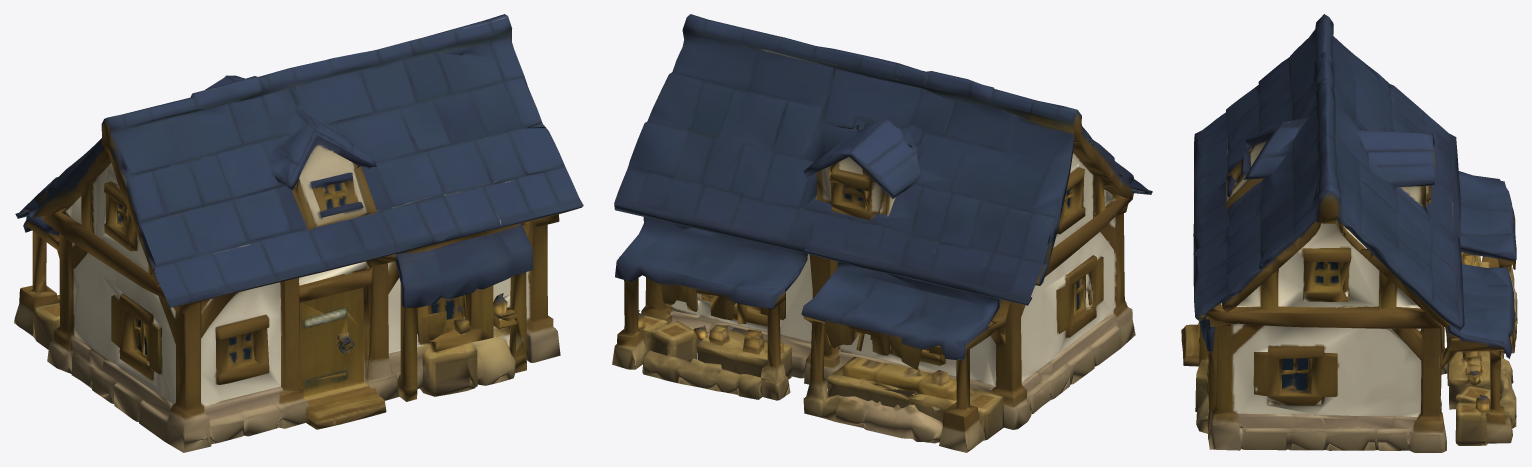
The model's file is item_shop.glb.
3 views of the same model, side by side, from view 1: azimuth 30°, elevation 25°; view 2: azimuth 150°, elevation 25°; view 3: azimuth 270°, elevation 25° (orthographic). The views are drawn at different scales.
Parts seen in each view (by area): view 1: item_shop; view 2: item_shop; view 3: item_shop.
Part boxes in pixels (x1,y1,x2,y2): item_shop: [14, 14, 583, 452]; item_shop: [612, 14, 1152, 452]; item_shop: [1181, 14, 1517, 452].
Bounding box in the file's own units: 8 × 5.29 × 5.96.
Materials: 2 (1 with a texture image).
